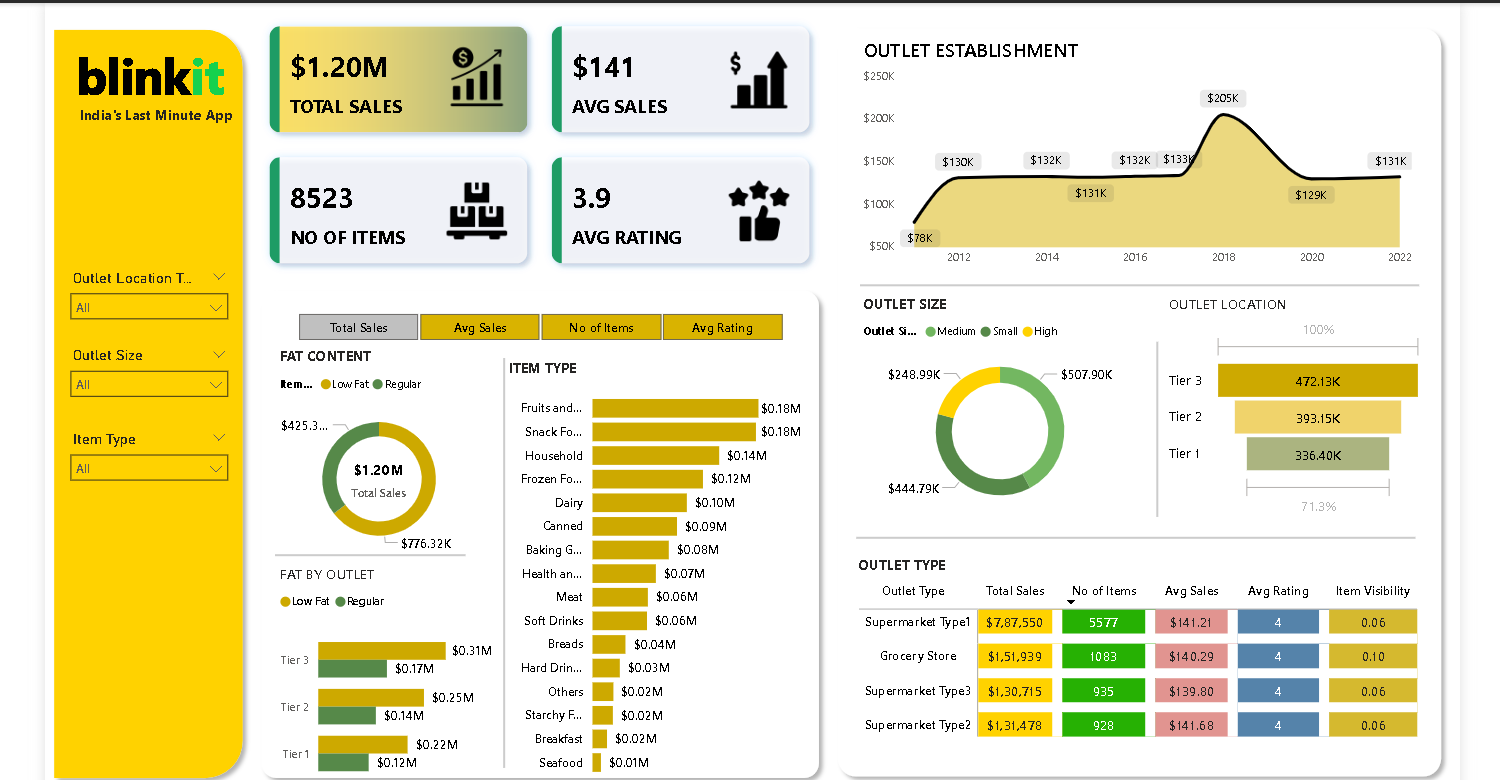

The page's visual inventory and layout, read from the dashboard file:
{"tool":"powerbi","page":{"name":"BLINKIT","canvas":[1400,800],"ordinal":0},"visuals":[{"type":"shape","box":[0,17.5,204.8,758.7],"z":0},{"type":"textbox","box":[11.1,33.3,185.7,79.4],"z":1000},{"type":"textbox","box":[14.3,96.8,176.2,33.3],"z":2000},{"type":"cardVisual","fields":{"Data":["BlinkIT Grocery Data.Total Sales","BlinkIT Grocery Data.Avg Sales","BlinkIT Grocery Data.No of Items","BlinkIT Grocery Data.Avg Rating"]},"box":[205.1,6.8,569.5,269.5],"z":3000},{"type":"shape","box":[205.1,276.3,569.5,500],"z":4000},{"type":"donutChart","title":"FAT CONTENT","fields":{"Y":["BlinkIT Grocery Data.Total Sales"],"Category":["BlinkIT Grocery Data.Item Fat Content"]},"box":[227,339.7,206.3,215.9],"z":5000},{"type":"slicer","fields":{"Values":["MATRIC.MATRIC"]},"box":[225.4,300,528.6,39.7],"z":6000},{"type":"cardVisual","fields":{"Data":["BlinkIT Grocery Data.Total Sales"]},"box":[273,434.9,114.3,73],"z":7000},{"type":"clusteredBarChart","title":"FAT BY OUTLET","fields":{"Y":["BlinkIT Grocery Data.Total Sales"],"Category":["BlinkIT Grocery Data.Outlet Location Type"],"Series":["BlinkIT Grocery Data.Item Fat Content"]},"box":[227.1,555.7,220,230],"z":7001},{"type":"shape","box":[227.1,525.7,188.6,41.4],"z":7002},{"type":"shape","box":[432.9,351.4,42.9,405.7],"z":7003},{"type":"barChart","title":"ITEM TYPE","fields":{"Category":["BlinkIT Grocery Data.Item Type"],"Y":["BlinkIT Grocery Data.Total Sales"]},"box":[454.3,351.4,300,424.3],"z":7004},{"type":"shape","box":[775,16.7,615,758.3],"z":7005},{"type":"lineChart","title":"OUTLET ESTABLISHMENT","fields":{"Y":["BlinkIT Grocery Data.Total Sales"],"Category":["BlinkIT Grocery Data.Outlet Establishment Year"]},"box":[805.1,33.9,552.5,235.6],"z":7006},{"type":"shape","box":[806.7,258.3,553.3,41.7],"z":7007},{"type":"donutChart","title":"OUTLET SIZE","fields":{"Y":["BlinkIT Grocery Data.Total Sales"],"Category":["BlinkIT Grocery Data.Outlet Size"]},"box":[805,288.3,280,225],"z":7008},{"type":"funnel","title":"OUTLET LOCATION","fields":{"Y":["Sum(BlinkIT Grocery Data.Sales)"],"Category":["BlinkIT Grocery Data.Outlet Location Type"]},"box":[1106.7,288.3,261.7,225],"z":7009},{"type":"shape","box":[1080,335,41.7,173.3],"z":7010},{"type":"shape","box":[803.3,508.3,553.3,41.7],"z":7011},{"type":"pivotTable","title":"OUTLET TYPE","fields":{"Rows":["BlinkIT Grocery Data.Outlet Type"],"Values":["BlinkIT Grocery Data.Total Sales","BlinkIT Grocery Data.No of Items","BlinkIT Grocery Data.Avg Sales","BlinkIT Grocery Data.Avg Rating","Avg(BlinkIT Grocery Data.Item Visibility)"]},"box":[800,546.7,568.3,198.3],"z":7012},{"type":"slicer","fields":{"Values":["BlinkIT Grocery Data.Outlet Location Type"]},"box":[15,258.3,176.7,61.7],"z":7013},{"type":"slicer","fields":{"Values":["BlinkIT Grocery Data.Outlet Size"]},"box":[15,335,176.7,61.7],"z":7014},{"type":"slicer","fields":{"Values":["BlinkIT Grocery Data.Item Type"]},"box":[15,418.3,176.7,61.7],"z":7015}]}

Visuals, with their boxes on the page's 1400x800 design canvas (x1, y1, x2, y2). These are canvas units, not pixel positions in the 1500x780 screenshot, which may show the page scaled, cropped or inside an application window:
shape: [left=0, top=18, right=205, bottom=776]
textbox: [left=11, top=33, right=197, bottom=113]
textbox: [left=14, top=97, right=190, bottom=130]
cardVisual - BlinkIT Grocery Data.Total Sales x BlinkIT Grocery Data.Avg Sales: [left=205, top=7, right=775, bottom=276]
shape: [left=205, top=276, right=775, bottom=776]
"FAT CONTENT" donutChart: [left=227, top=340, right=433, bottom=556]
slicer - MATRIC.MATRIC: [left=225, top=300, right=754, bottom=340]
cardVisual - BlinkIT Grocery Data.Total Sales: [left=273, top=435, right=387, bottom=508]
"FAT BY OUTLET" clusteredBarChart: [left=227, top=556, right=447, bottom=786]
shape: [left=227, top=526, right=416, bottom=567]
shape: [left=433, top=351, right=476, bottom=757]
"ITEM TYPE" barChart: [left=454, top=351, right=754, bottom=776]
shape: [left=775, top=17, right=1390, bottom=775]
"OUTLET ESTABLISHMENT" lineChart: [left=805, top=34, right=1358, bottom=270]
shape: [left=807, top=258, right=1360, bottom=300]
"OUTLET SIZE" donutChart: [left=805, top=288, right=1085, bottom=513]
"OUTLET LOCATION" funnel: [left=1107, top=288, right=1368, bottom=513]
shape: [left=1080, top=335, right=1122, bottom=508]
shape: [left=803, top=508, right=1357, bottom=550]
"OUTLET TYPE" pivotTable: [left=800, top=547, right=1368, bottom=745]
slicer - BlinkIT Grocery Data.Outlet Location Type: [left=15, top=258, right=192, bottom=320]
slicer - BlinkIT Grocery Data.Outlet Size: [left=15, top=335, right=192, bottom=397]
slicer - BlinkIT Grocery Data.Item Type: [left=15, top=418, right=192, bottom=480]
